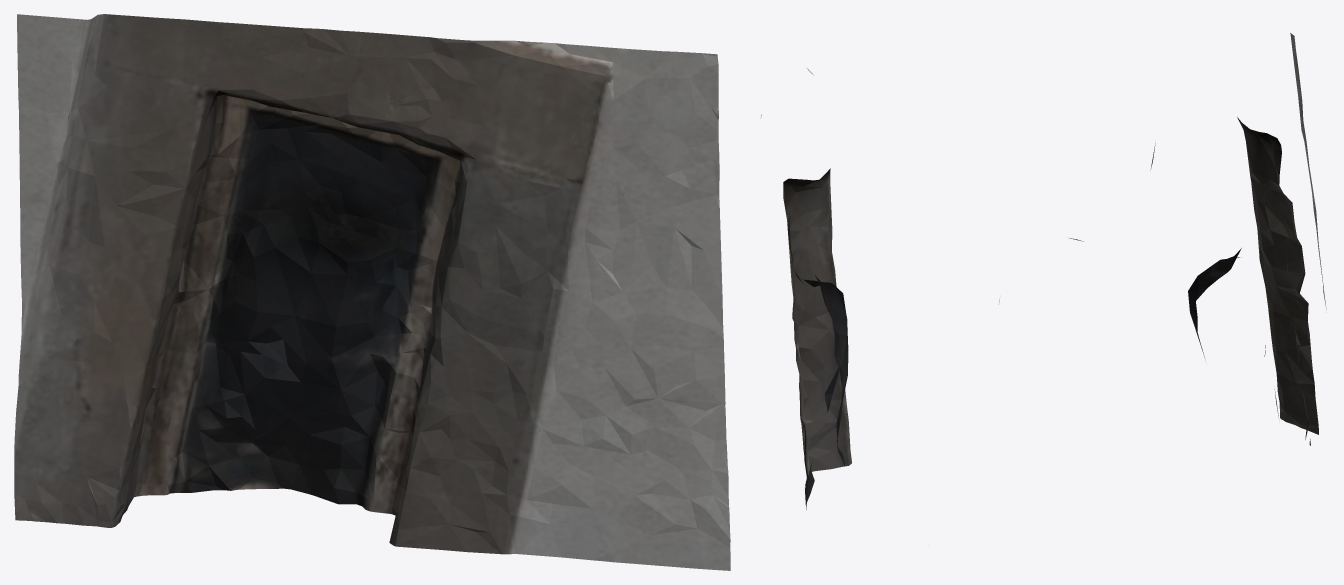
The picture shows the model from 3 angles, left to right: view 1: azimuth 30°, elevation 25°; view 2: azimuth 150°, elevation 25°; view 3: azimuth 270°, elevation 25°; orthographic projection. The views are drawn at different scales.
Bounding box in the file's own units: 0.8373 × 0.8374 × 0.6942.
4 materials, 4 textured.
